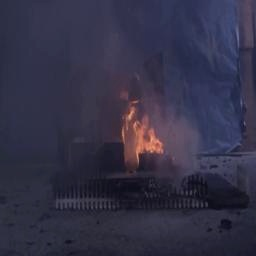fire: (119, 94, 166, 160)
